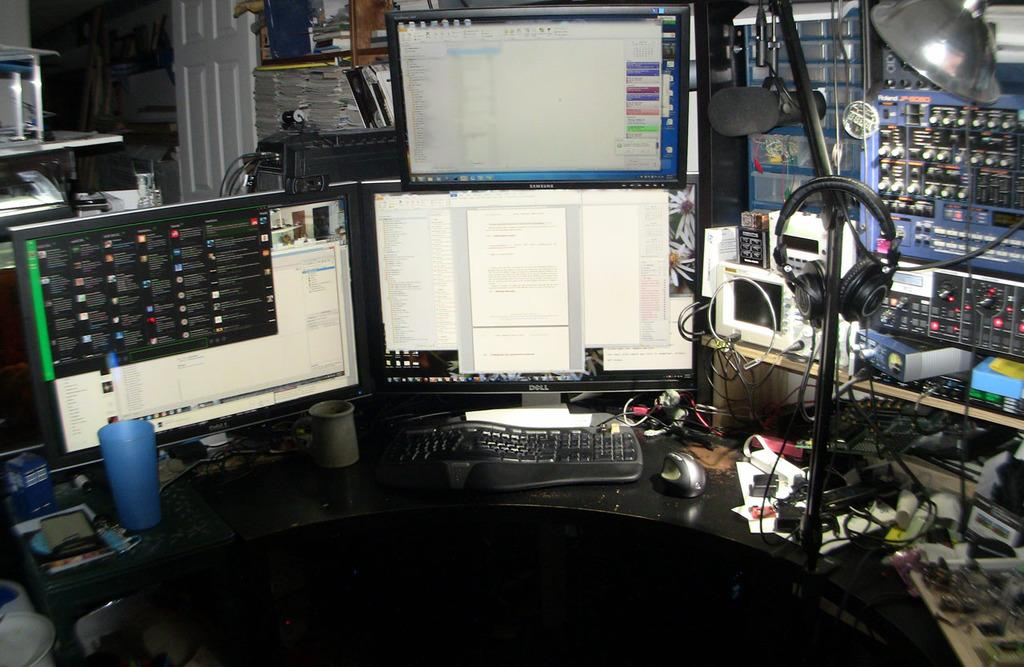Computer-monitor: (5, 178, 372, 499), (358, 170, 699, 413), (386, 0, 685, 193)
